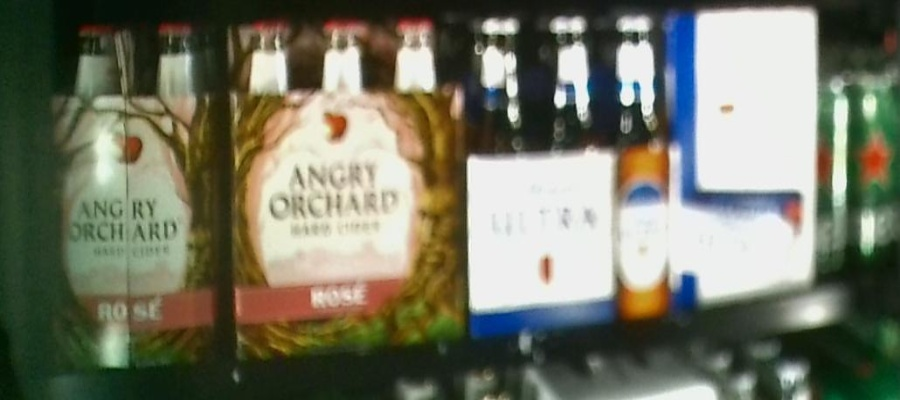bottle: (231, 1, 466, 362), (27, 13, 230, 368), (473, 10, 673, 338), (675, 3, 817, 318)
